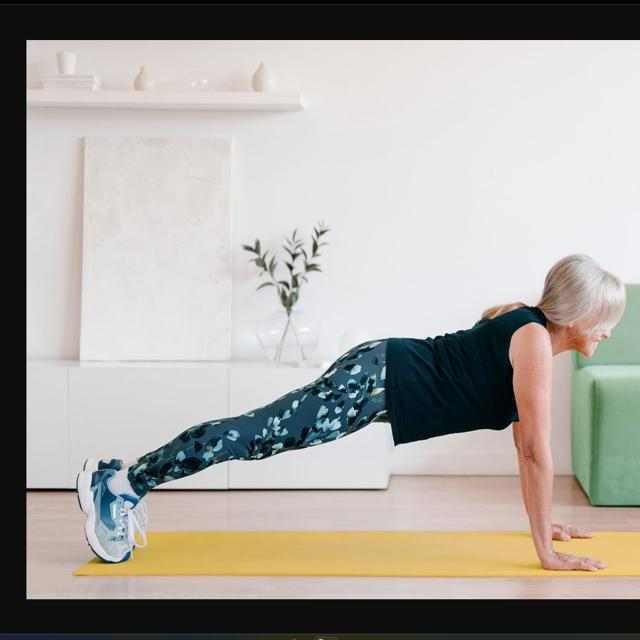Plank_Pose: (60, 245, 627, 591)
